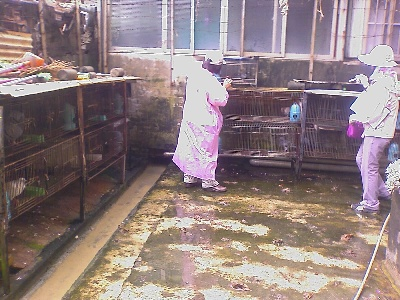bottle: (56, 68, 78, 80), (289, 101, 300, 122), (109, 68, 126, 77)
